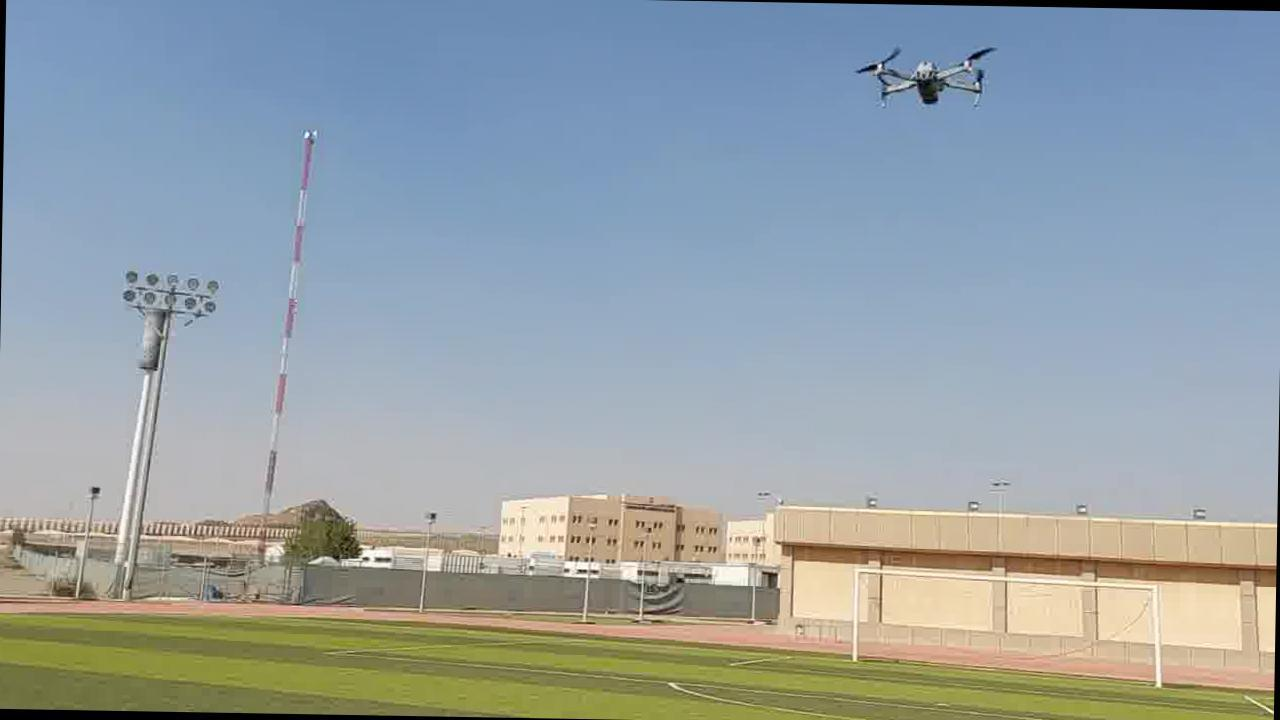drone: (855, 38, 1009, 120)
